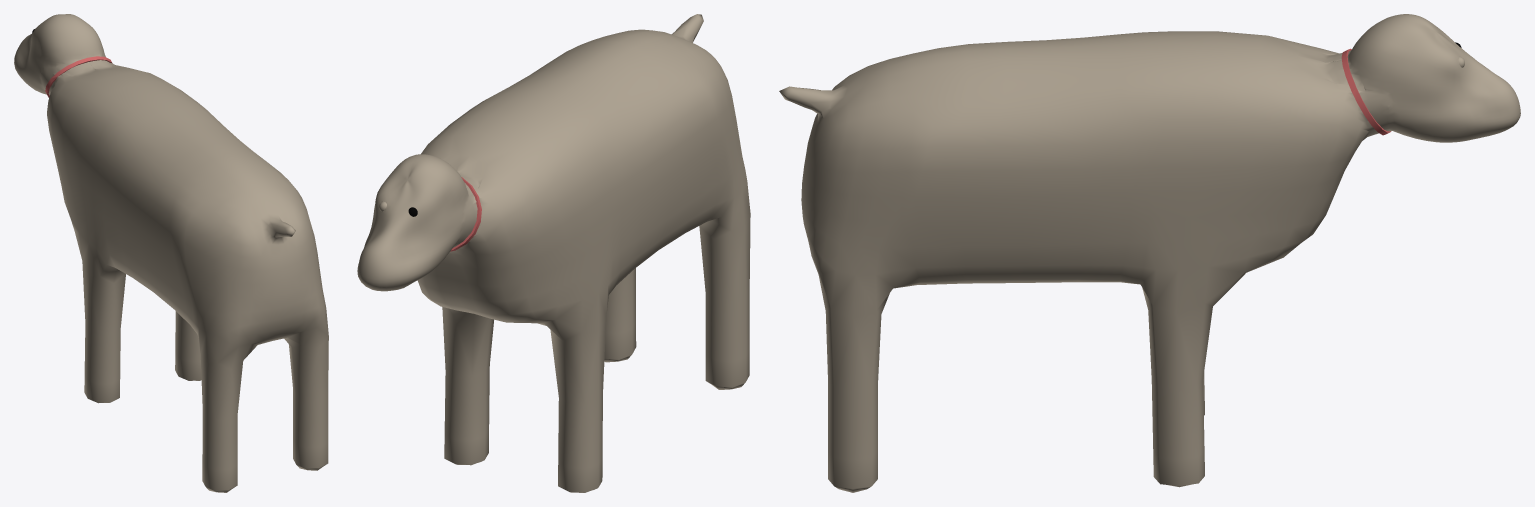
The model's file is Dog.fbx.
The picture shows the model from 3 angles, left to right: view 1: azimuth 30°, elevation 25°; view 2: azimuth 150°, elevation 25°; view 3: azimuth 270°, elevation 25°; orthographic projection. The views are drawn at different scales.
Visible parts, largest first — view 1: pSphere8; view 2: pSphere8; view 3: pSphere8.
Boxes of the visible parts, box(x1,y1,x2,y2) form: pSphere8: box(14, 14, 328, 492); pSphere8: box(357, 14, 750, 492); pSphere8: box(779, 14, 1520, 492).
Bounding box in the file's own units: 1.24 × 2.99 × 4.59.
